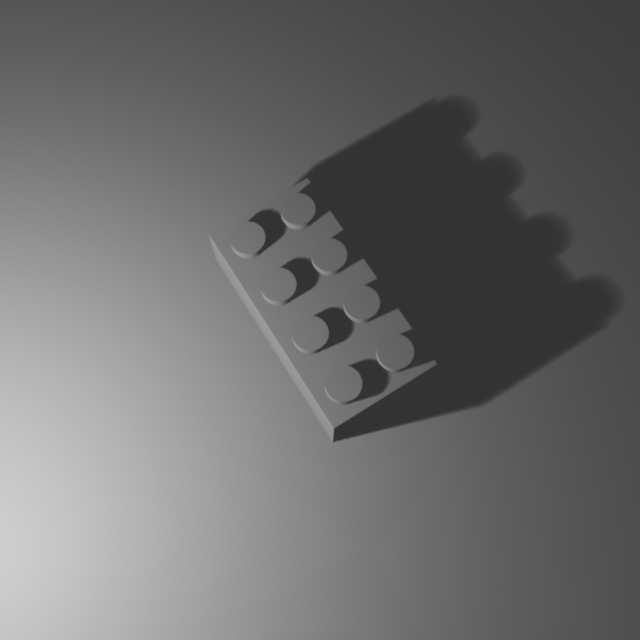lego_2x4: (207, 173, 439, 442)
